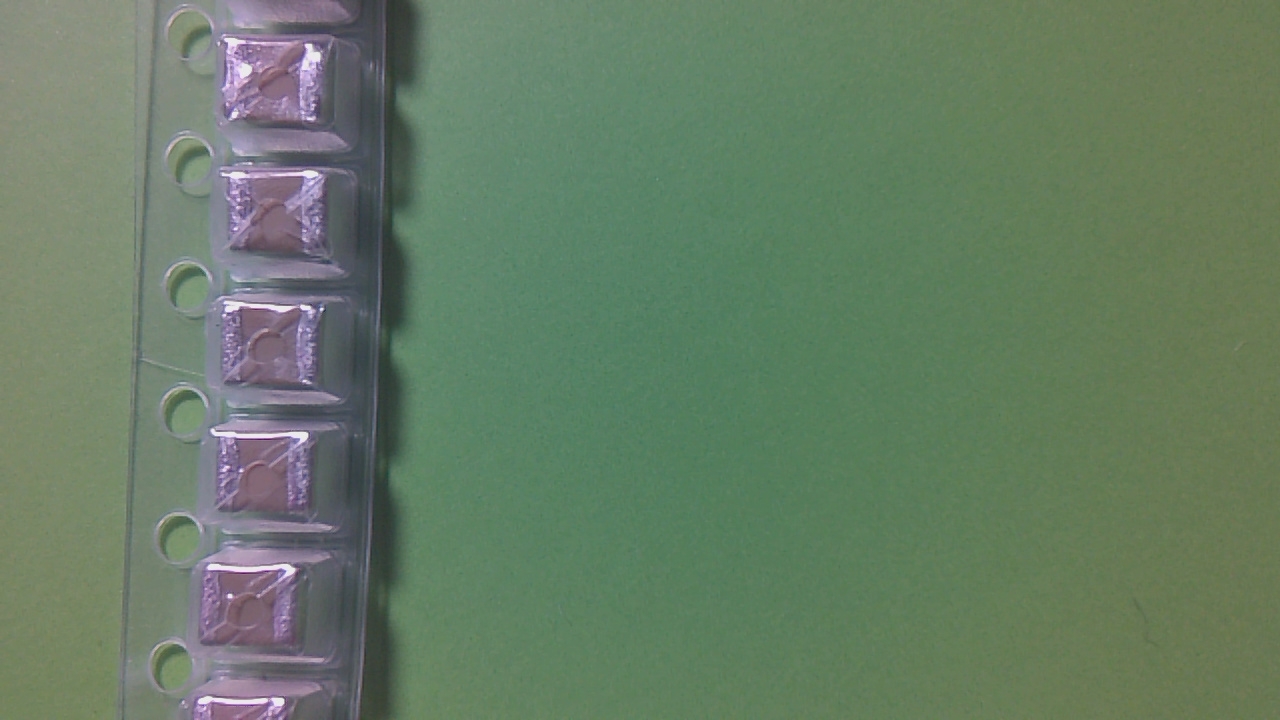Condensator: (227, 174, 336, 262), (217, 439, 328, 523), (200, 568, 310, 650), (223, 306, 330, 390), (229, 43, 332, 128)
